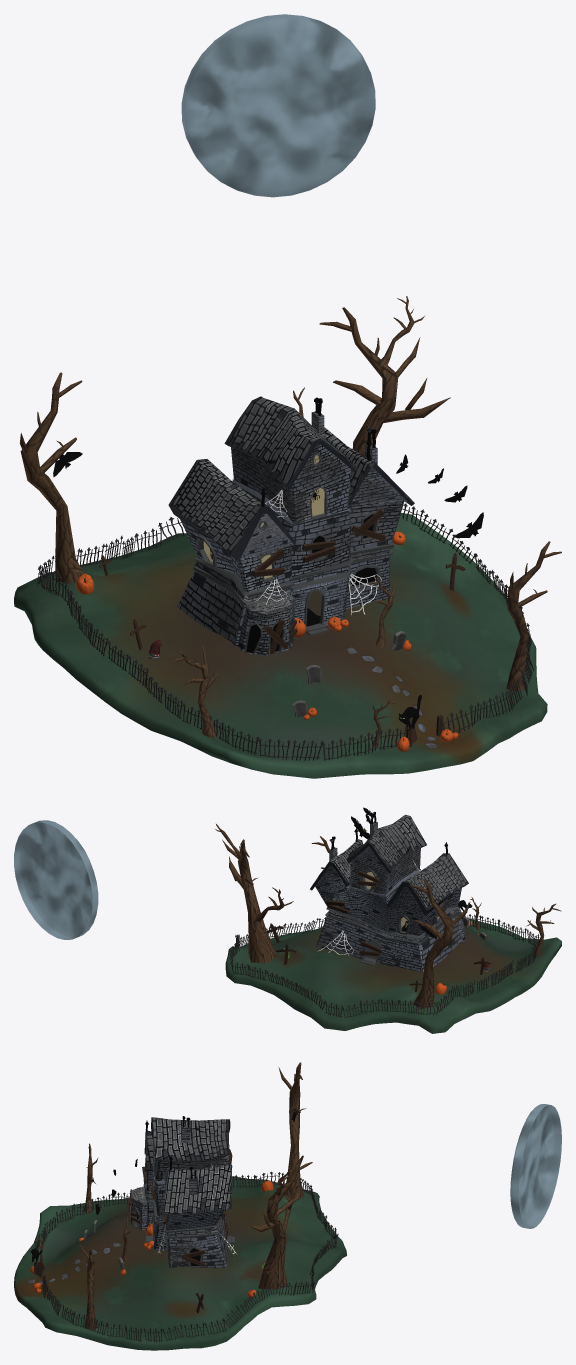
The picture shows the model from 3 angles, top to bottom: view 1: azimuth 30°, elevation 25°; view 2: azimuth 150°, elevation 25°; view 3: azimuth 270°, elevation 25°; orthographic projection. The views are drawn at different scales.
Parts seen in each view (by area): view 1: Base, House, Moon, FenceIron, LargeTree, LargeTreeLeft, MediumTreeRight, MediumTreeLeft; view 2: Base, House, Moon, FenceIron, LargeTree, LargeTreeLeft, MediumTreeLeft, GraveMarkers; view 3: Base, House, Moon, FenceIron, LargeTree, LargeTreeLeft, MediumTreeRight, MediumTreeLeft.
Part boxes in pixels (box(x1,y1,x2,y2)): Base: box(14, 513, 547, 778); House: box(168, 396, 414, 655); Moon: box(181, 14, 375, 197); FenceIron: box(36, 503, 533, 760); LargeTree: box(293, 296, 450, 456); LargeTreeLeft: box(19, 372, 83, 583); MediumTreeRight: box(506, 541, 561, 691); MediumTreeLeft: box(172, 645, 218, 738); Base: box(225, 919, 561, 1033); House: box(310, 814, 468, 972); Moon: box(14, 820, 98, 939); FenceIron: box(229, 914, 539, 1018); LargeTree: box(215, 824, 293, 963); LargeTreeLeft: box(408, 879, 470, 1009); MediumTreeLeft: box(526, 903, 561, 956); GraveMarkers: box(267, 923, 490, 991); Base: box(14, 1176, 346, 1350); House: box(130, 1117, 234, 1268); Moon: box(510, 1104, 561, 1228); FenceIron: box(34, 1171, 338, 1342); LargeTree: box(249, 1155, 312, 1289); LargeTreeLeft: box(278, 1062, 306, 1200); MediumTreeRight: box(79, 1243, 97, 1329); MediumTreeLeft: box(83, 1143, 98, 1214).
Bounding box in the file's own units: 18.95 × 13.19 × 25.18.
15 materials, 10 textured.
